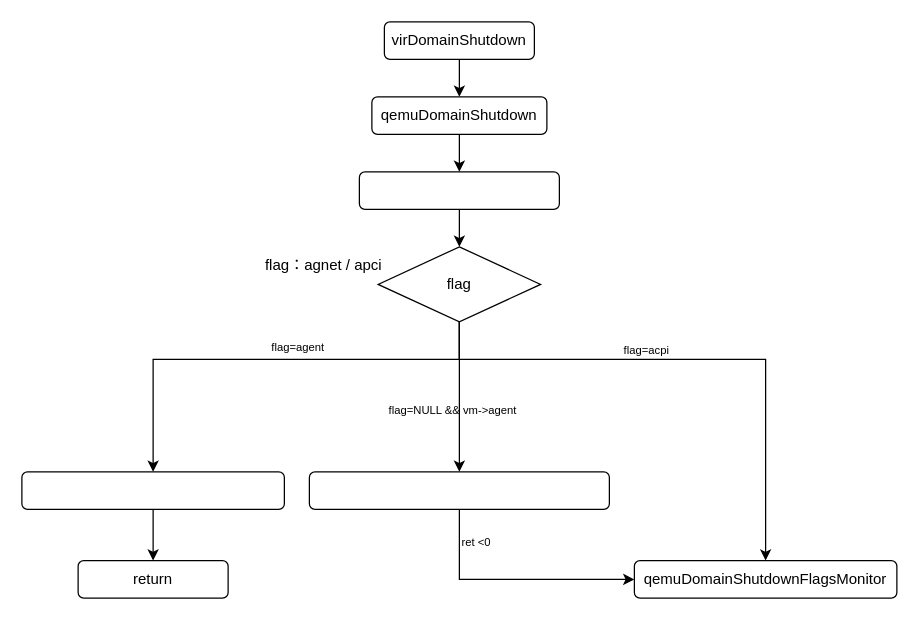
Image size: 919x620. Some labels were removed from this diagram. The box of each missing label's shape, as (x1, y1, x2, y2) in pixels:
qemuDomainShutdownFlags: (358, 171, 559, 209)
qemuDomainShutdownFlagsAgent: (21, 471, 284, 509)
ret = qemuDomainShutdownFlagsAgent: (308, 471, 609, 509)
